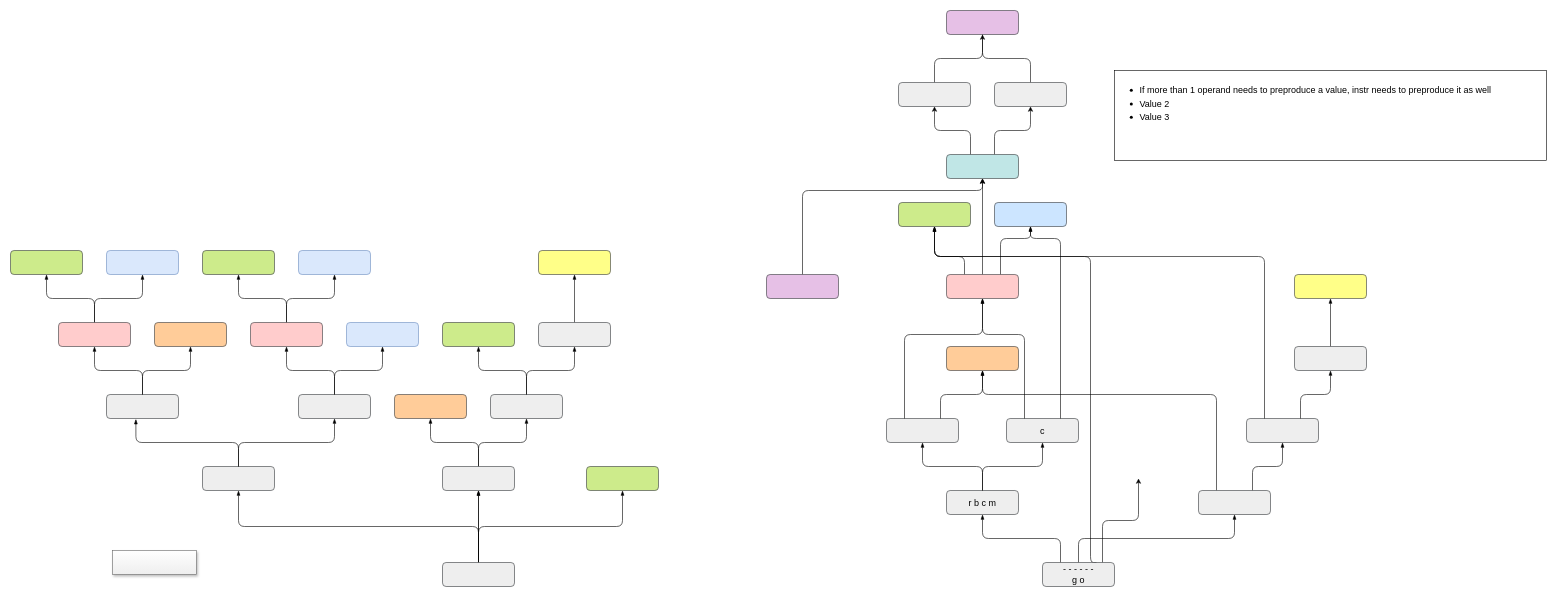
The diagram is 1557 pixels wide and 597 high, and some of its shapes have lost their labels. Here are the shapes that lost their labels. From the top down, the centre of each, then its label:
pixel 982 286: g c b
pixel 155 563: PRINT
